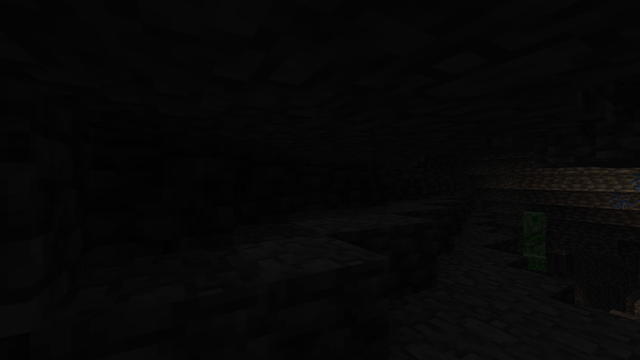creepers: (517, 208, 550, 270)
